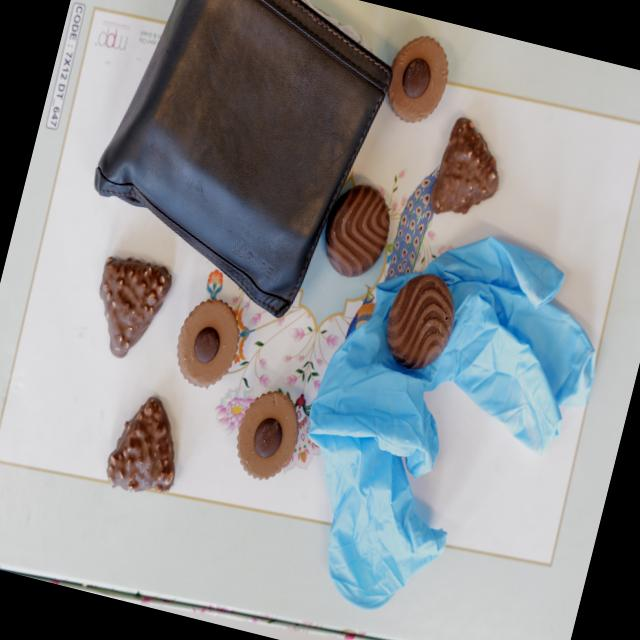Noblesse: (227, 383, 308, 487), (167, 293, 248, 394), (378, 28, 456, 128)
Noir_authentique: (378, 266, 464, 377), (316, 178, 398, 284)
Triangolo: (82, 252, 174, 367), (426, 112, 514, 226), (102, 392, 192, 502)
